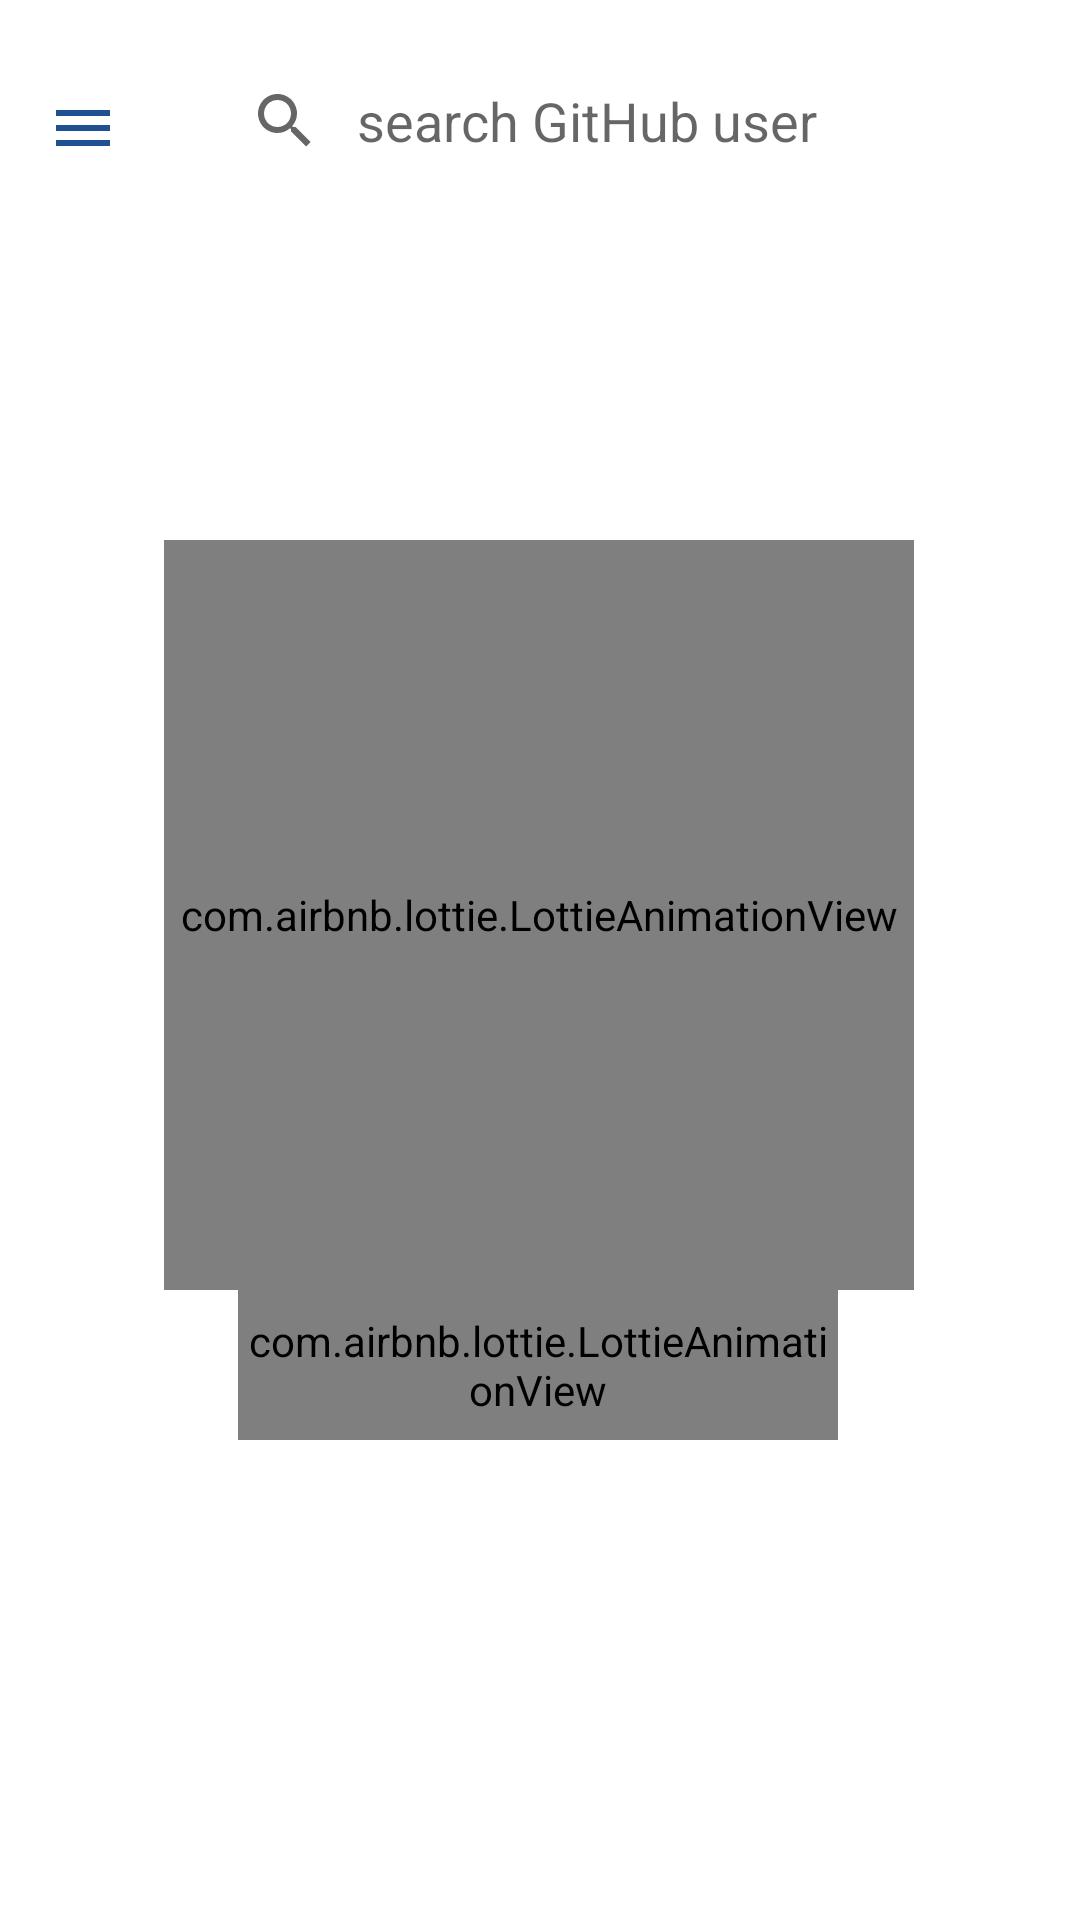

Where icons sit on this 1080 x 1920 app screen, as [x1=x1, y1=y1, x2=x2, y2=y2]:
menu: [x1=56, y1=110, x2=110, y2=146]
